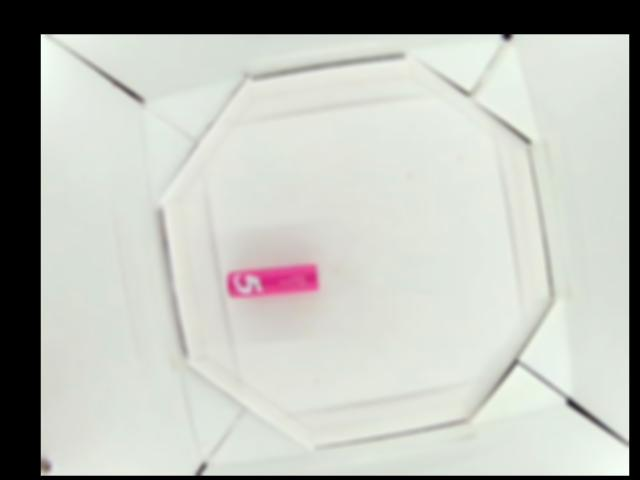Battery: (224, 266, 321, 296)
